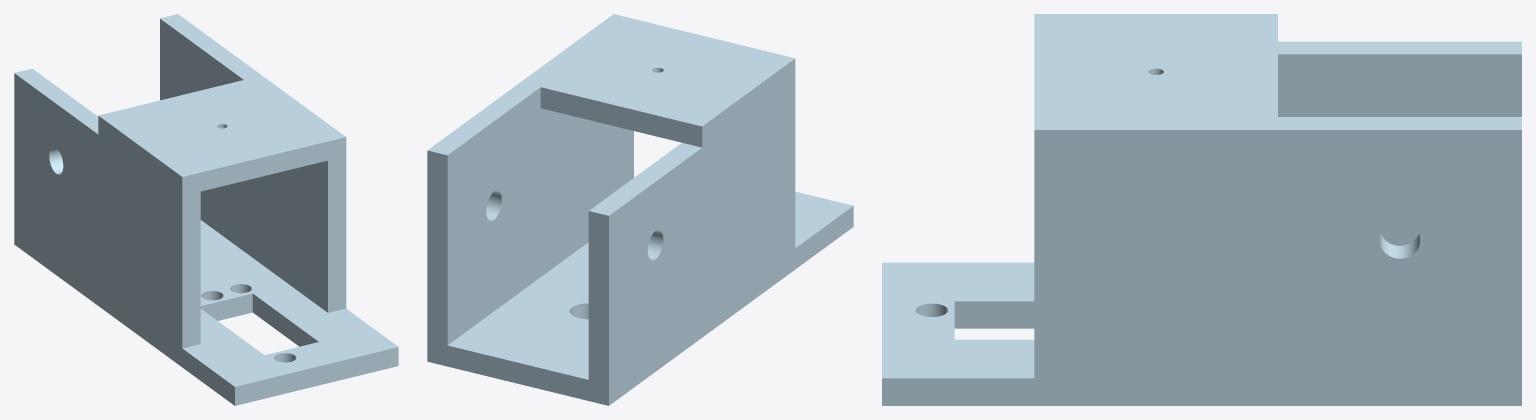
3 renders of one model, left to right at view 1: azimuth 30°, elevation 25°; view 2: azimuth 150°, elevation 25°; view 3: azimuth 270°, elevation 25°, orthographic. The views are drawn at different scales.
Visible parts, largest first — view 1: mesh962, mesh965, mesh959, mesh968, mesh958, mesh956, mesh961, mesh972, mesh971; view 2: mesh962, mesh959, mesh965, mesh957, mesh968, mesh960, mesh961; view 3: mesh955, mesh965, mesh963, mesh968, mesh961, mesh970.
Part boxes in pixels (bbox=[...]): mesh962: bbox=[14, 73, 234, 405]; mesh965: bbox=[98, 14, 345, 176]; mesh959: bbox=[160, 19, 327, 312]; mesh968: bbox=[182, 220, 398, 386]; mesh958: bbox=[182, 137, 346, 348]; mesh956: bbox=[235, 347, 398, 405]; mesh961: bbox=[14, 68, 98, 133]; mesh972: bbox=[252, 294, 318, 346]; mesh971: bbox=[200, 293, 252, 320]; mesh962: bbox=[609, 58, 853, 405]; mesh959: bbox=[447, 87, 633, 344]; mesh965: bbox=[427, 14, 794, 155]; mesh957: bbox=[427, 150, 608, 405]; mesh968: bbox=[448, 191, 853, 379]; mesh960: bbox=[540, 87, 702, 147]; mesh961: bbox=[589, 143, 701, 215]; mesh955: bbox=[882, 130, 1521, 405]; mesh965: bbox=[1034, 14, 1521, 129]; mesh963: bbox=[1278, 54, 1521, 245]; mesh968: bbox=[882, 262, 1034, 378]; mesh961: bbox=[1278, 41, 1521, 54]; mesh970: bbox=[954, 301, 1034, 328].
Size of the model in its own units: 0.0572 by 0.0635 by 0.1334.
